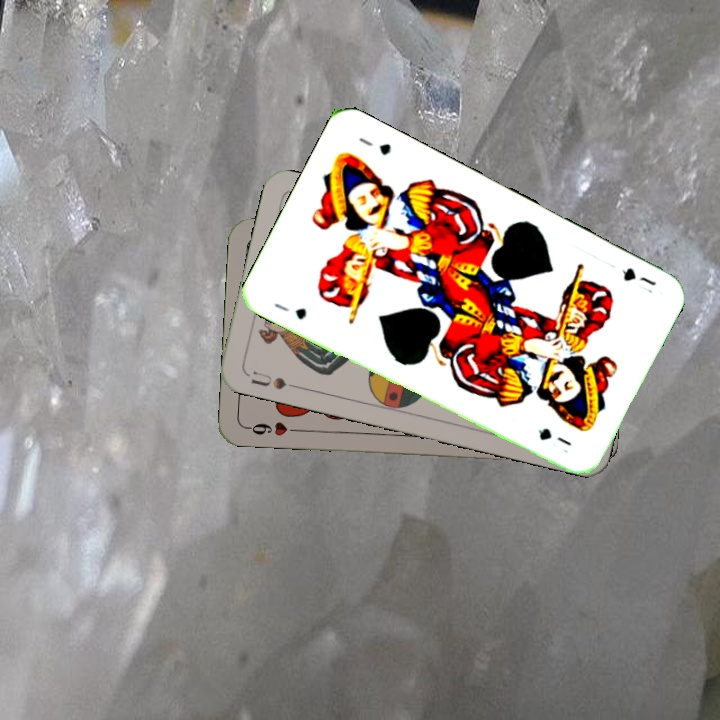GU: (617, 263, 659, 296), (270, 299, 310, 323)
H9: (242, 418, 302, 439)
SU: (247, 366, 302, 392)
